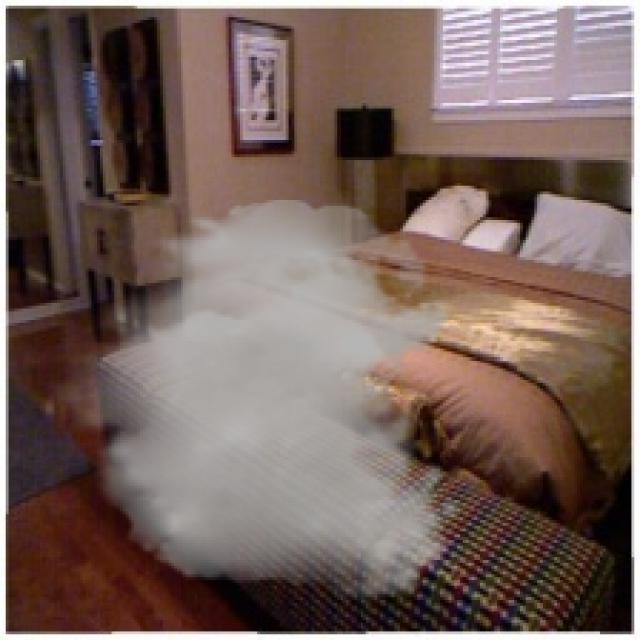smoke: (43, 200, 463, 600)
